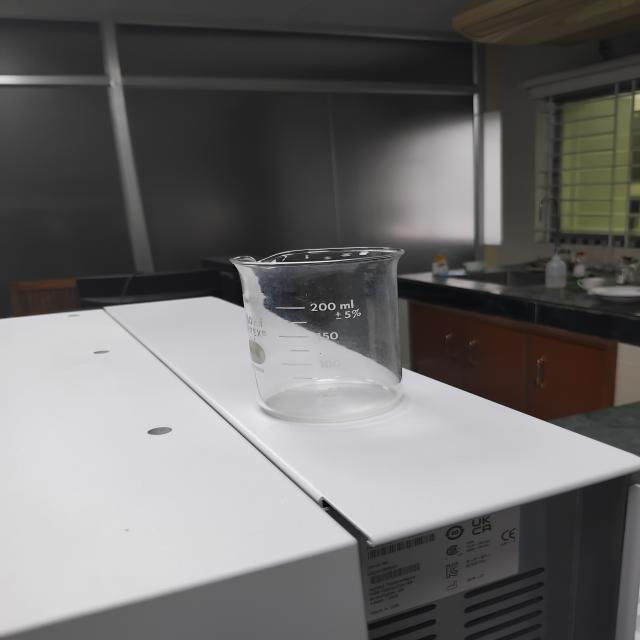Beaker: (201, 200, 454, 449)
